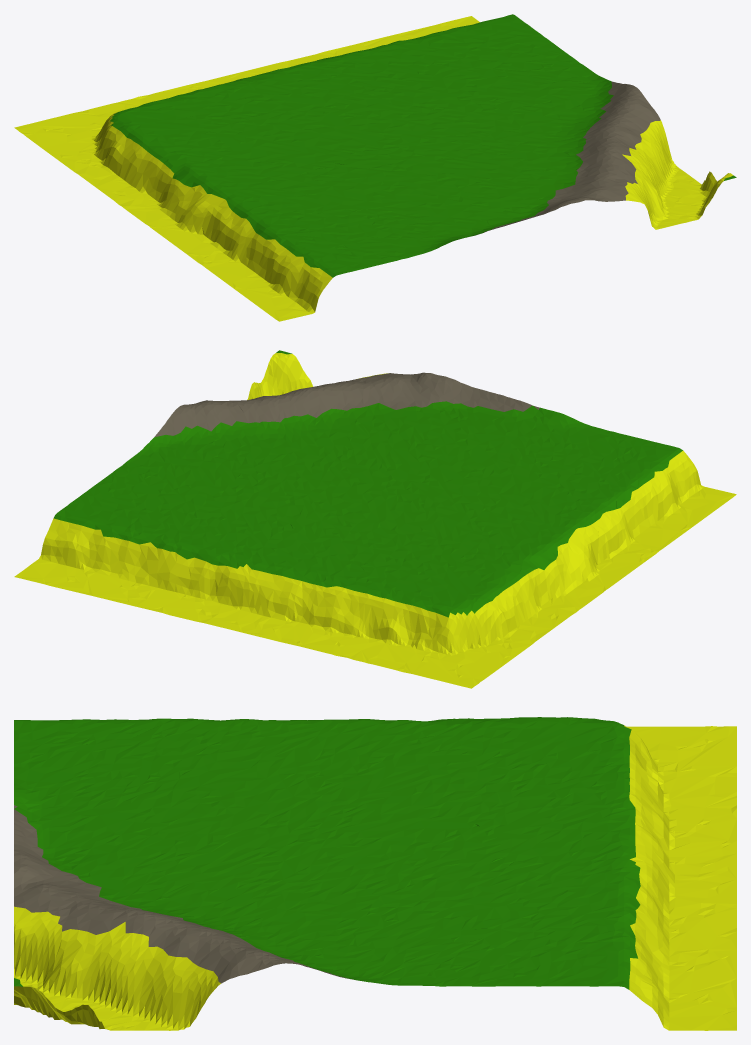
3 views of the same model, one above another, from view 1: azimuth 30°, elevation 25°; view 2: azimuth 150°, elevation 25°; view 3: azimuth 270°, elevation 25° (orthographic). The views are drawn at different scales.
Visible parts, largest first — view 1: TerrainVeryHigh.008; view 2: TerrainVeryHigh.008; view 3: TerrainVeryHigh.008.
Part boxes in pixels (x1,y1,x2,y2): TerrainVeryHigh.008: (14,14,736,321); TerrainVeryHigh.008: (14,350,736,688); TerrainVeryHigh.008: (14,717,736,1030).
Bounding box in the file's own units: 1247 × 1252 × 130.
